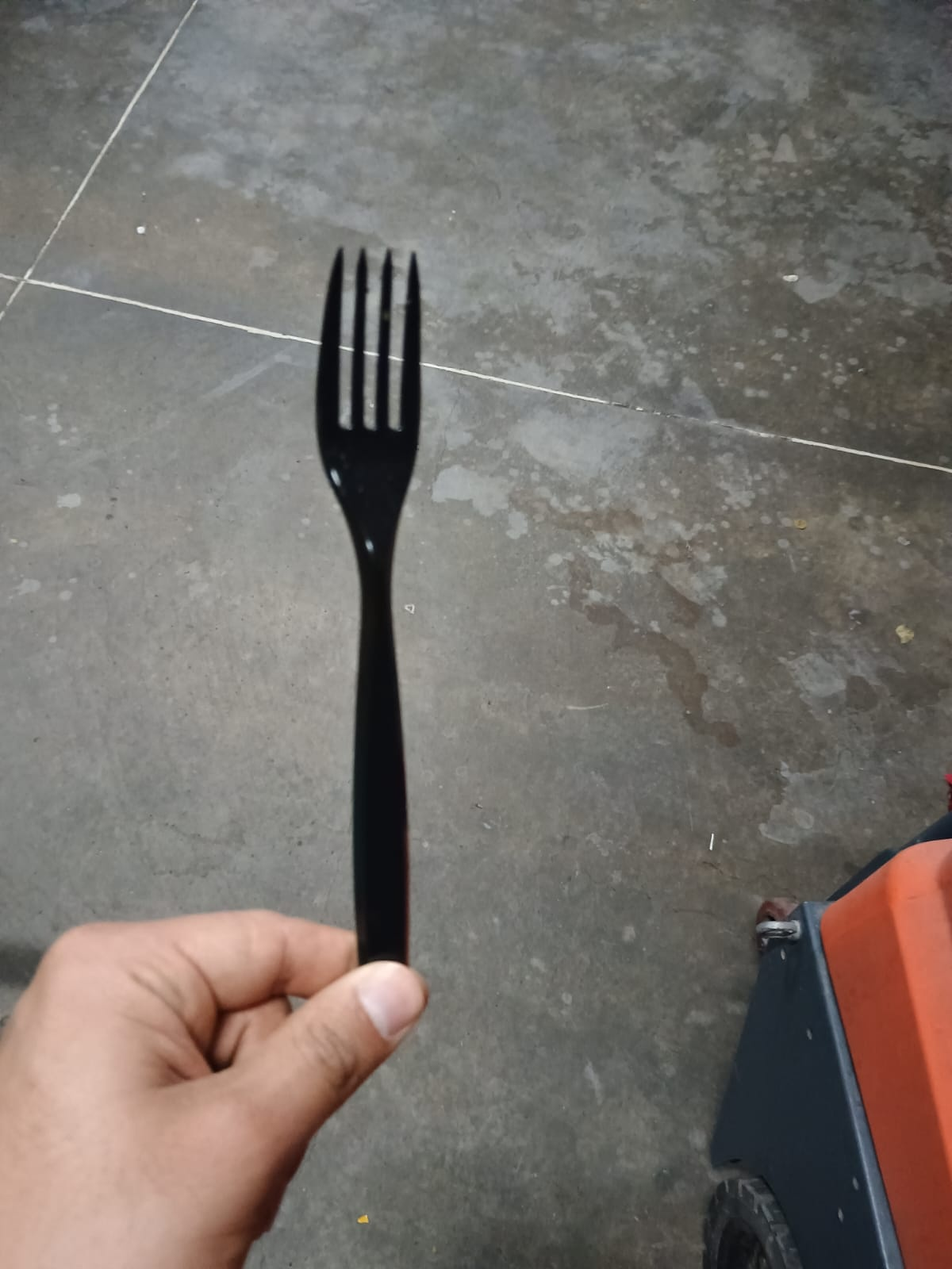Ordinario: (312, 242, 420, 961)
